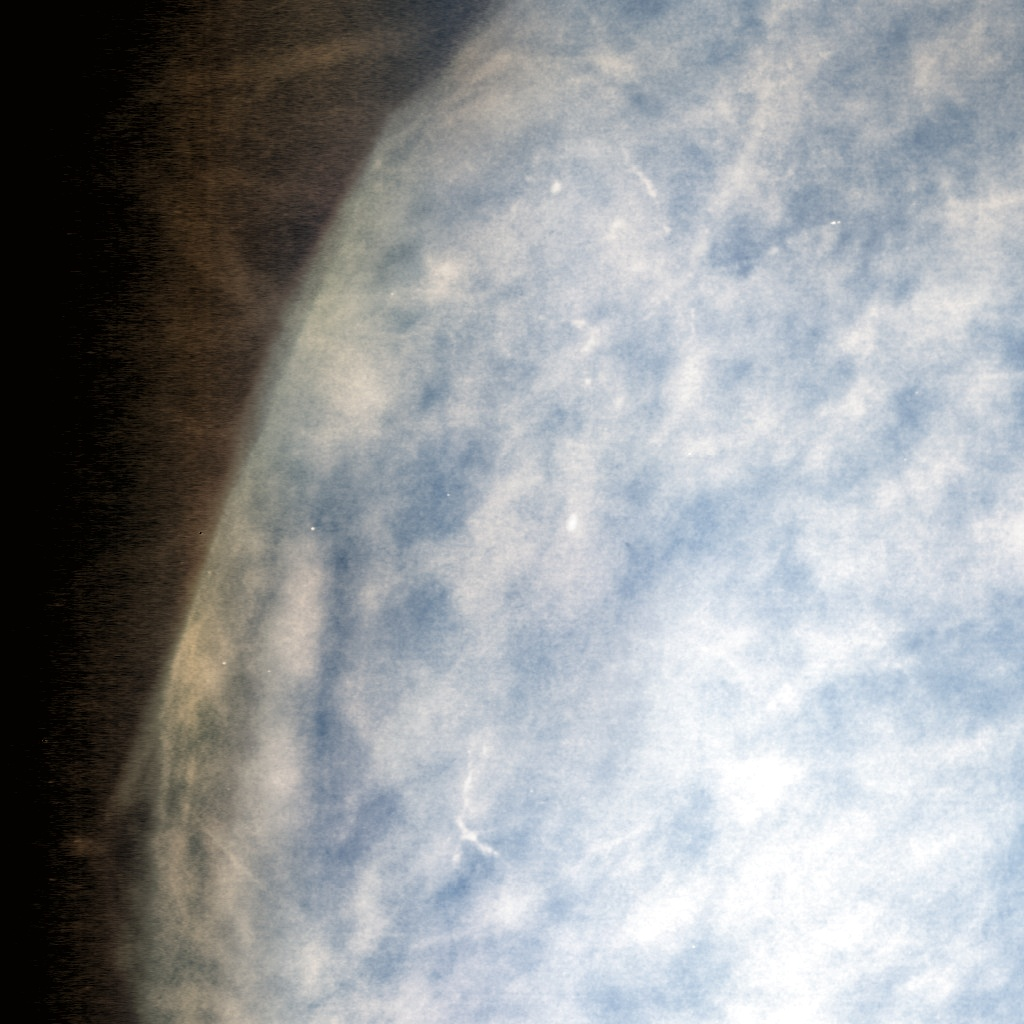tumor: (234, 82, 790, 942)
